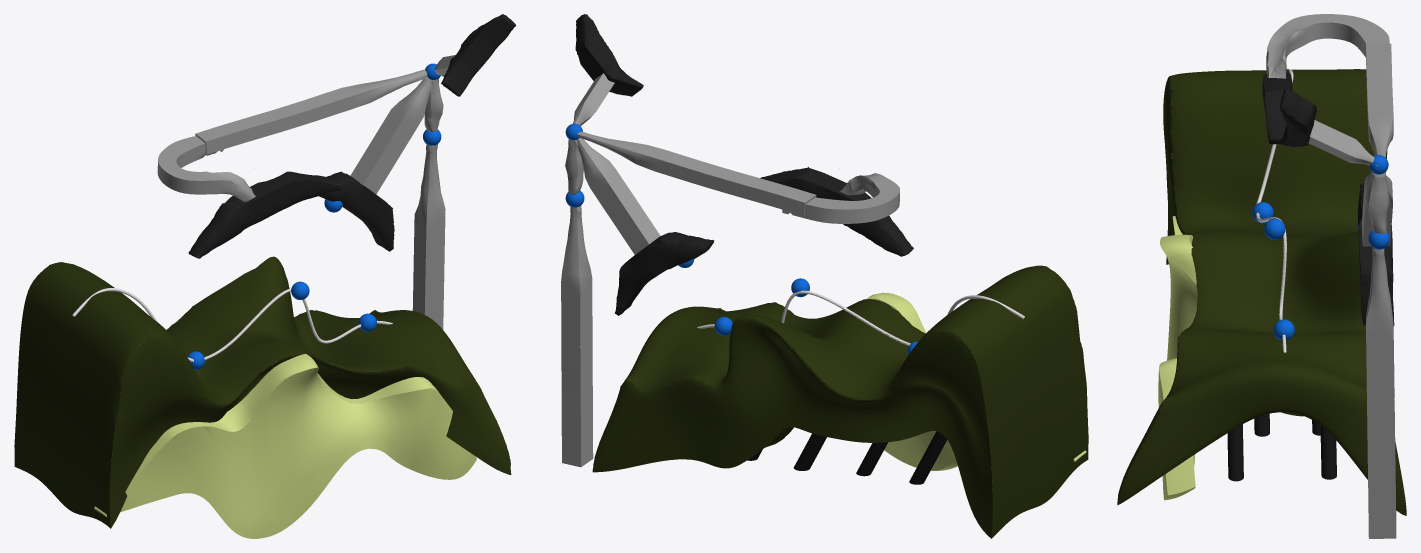
File: nomad-project-15.glb
3 renders of one model, left to right at view 1: azimuth 30°, elevation 25°; view 2: azimuth 150°, elevation 25°; view 3: azimuth 270°, elevation 25°, orthographic. The views are drawn at different scales.
Parts seen in each view (by area): view 1: Patch, Front_1, Front, Patch_1, Front_2, Front_4, Front_9, Right_2, Front_7, Front_3, Patch_8, Patch_6 (+6 smaller); view 2: Patch, Back, Back_2, Left_1, Back_4, Back_7, Right_2, Back_3, Patch_6, Right_1, Back_9, Back_1 (+7 smaller); view 3: Patch, Right, Right_2, Patch_1, Front_1, Front_6, Front, Patch_6, Right_3, Main_6, Left_1_2, Right_4 (+11 smaller).
Part boxes in pixels (x1,y1,x2,y2): Patch: (14, 256, 511, 528); Front_1: (106, 367, 476, 538); Front: (109, 334, 511, 527); Patch_1: (94, 354, 440, 515); Front_2: (424, 145, 445, 329); Front_4: (206, 72, 428, 154); Front_9: (198, 178, 342, 258); Right_2: (195, 70, 426, 141); Front_7: (321, 181, 394, 251); Front_3: (363, 79, 432, 194); Patch_8: (442, 15, 514, 95); Patch_6: (157, 143, 255, 202); Patch: (621, 265, 1088, 538); Back: (592, 315, 992, 538); Back_2: (561, 207, 580, 467); Left_1: (577, 211, 593, 466); Back_4: (577, 134, 804, 215); Back_7: (615, 240, 705, 315); Right_2: (580, 131, 815, 202); Back_3: (576, 139, 648, 254); Patch_6: (782, 175, 899, 223); Right_1: (580, 138, 660, 244); Back_9: (775, 178, 905, 256); Back_1: (866, 298, 1074, 470); Patch: (1117, 69, 1406, 515); Right: (1366, 253, 1396, 538); Right_2: (1366, 43, 1393, 155); Patch_1: (1159, 216, 1196, 495); Front_1: (1158, 226, 1197, 500); Front_6: (1267, 14, 1389, 77); Front: (1117, 76, 1197, 502); Patch_6: (1266, 22, 1365, 77); Right_3: (1310, 120, 1374, 162); Main_6: (1227, 424, 1243, 481); Left_1_2: (1264, 89, 1286, 139); Right_4: (1368, 175, 1387, 228).
Bounding box in the file's own units: 2.9 × 2.51 × 1.38.
